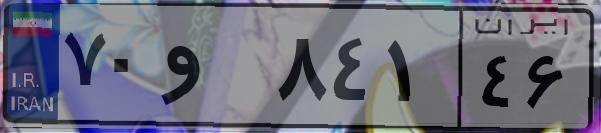0: (110, 28, 158, 98)
1: (385, 28, 445, 110)
4: (330, 28, 385, 110), (475, 38, 525, 113)
6: (525, 38, 570, 115)
7: (57, 26, 110, 100)
8: (270, 28, 330, 110)
و: (158, 20, 270, 120)
